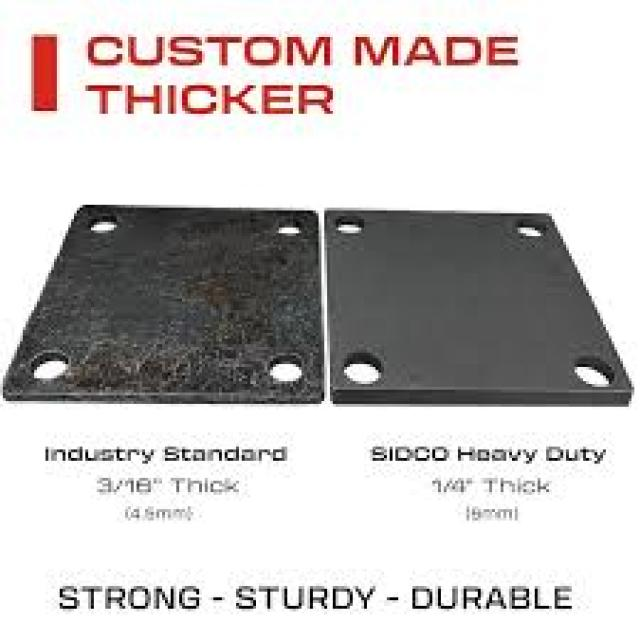holes: (571, 348, 619, 392), (23, 344, 76, 383), (259, 347, 304, 387), (342, 353, 390, 386), (82, 212, 122, 237), (514, 217, 550, 242), (335, 214, 367, 234), (277, 220, 300, 243)
